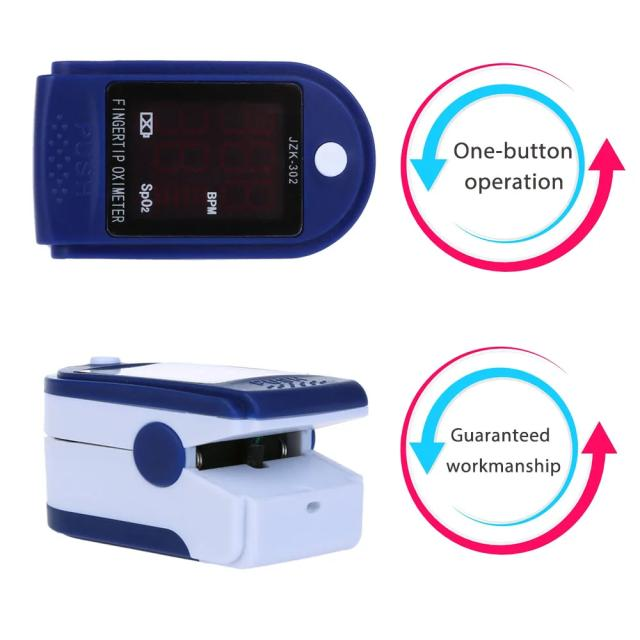oximeter: (8, 21, 380, 277)
